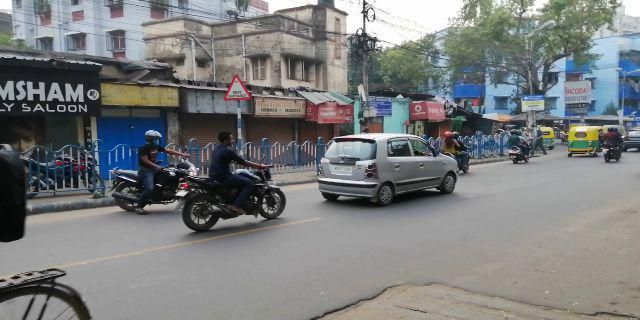Autorickshaw: (565, 124, 599, 159)
Car: (316, 136, 458, 204)
Motorbike: (182, 133, 285, 231), (107, 130, 194, 215), (502, 127, 530, 165)
